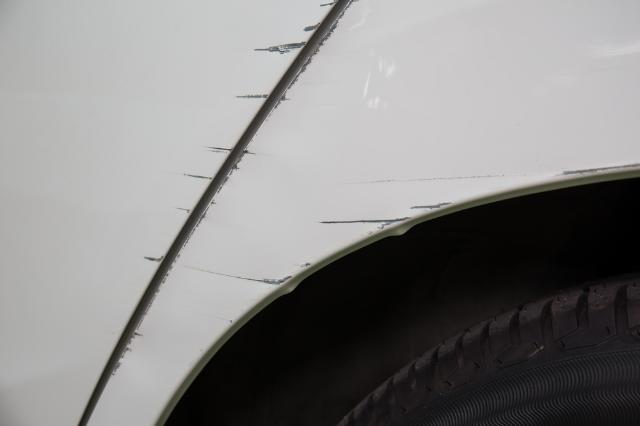scratch: (109, 0, 363, 380), (189, 157, 640, 289), (130, 0, 340, 278)
